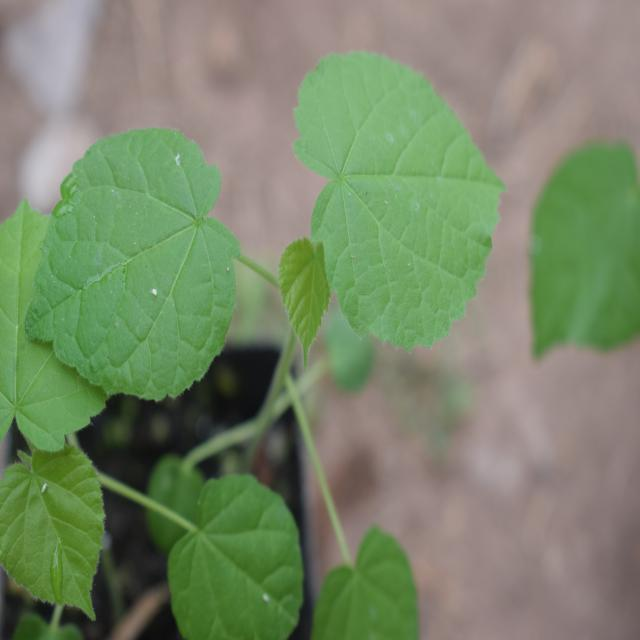abutilon theophrasti: (15, 47, 481, 447)
